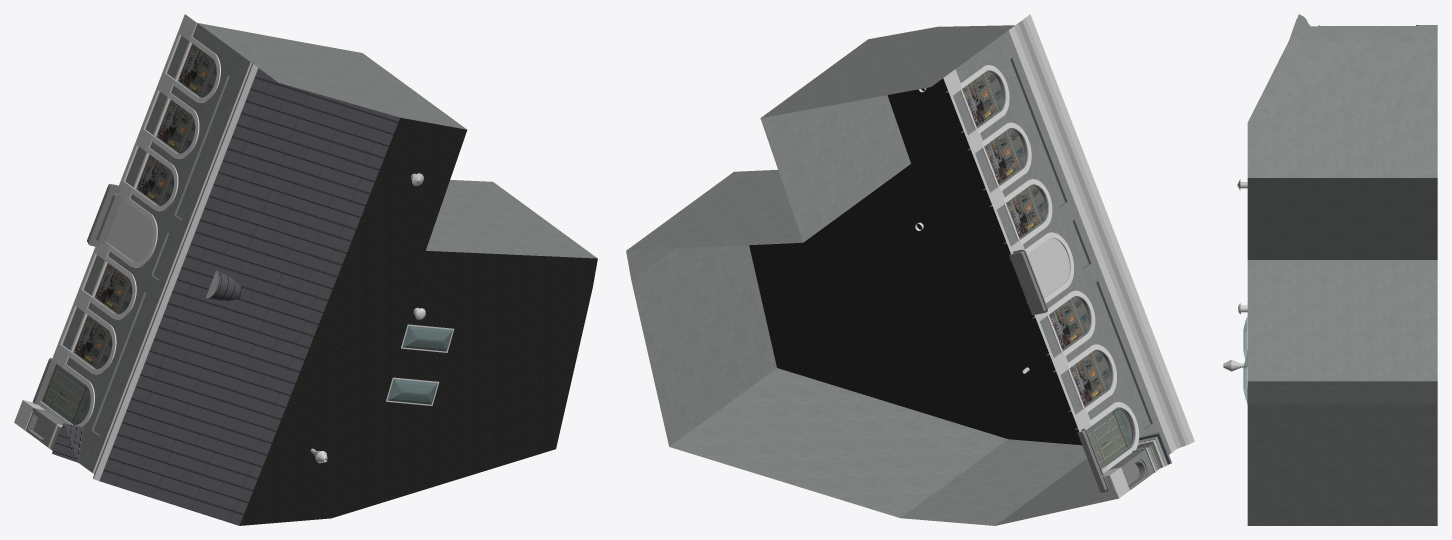
File: Vana-Viru_8.obj
The picture shows the model from 3 angles, left to right: view 1: azimuth 30°, elevation 25°; view 2: azimuth 150°, elevation 25°; view 3: azimuth 270°, elevation 25°; orthographic projection. The views are drawn at different scales.
Visible parts, largest first — view 1: Vana_Viru_8; view 2: Vana_Viru_8; view 3: Vana_Viru_8.
Part boxes in pixels (x1,y1,x2,y2): Vana_Viru_8: (14,14,597,525); Vana_Viru_8: (626,14,1194,525); Vana_Viru_8: (1223,14,1437,525).
Bounding box in the file's own units: 21.55 × 18.9 × 9.08.
